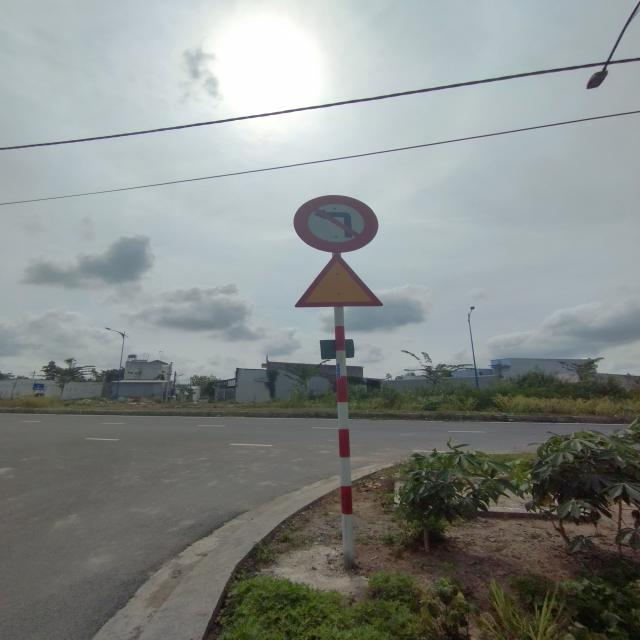Cam_Re_Trai: (291, 193, 382, 254)
Gioi_Han_Toc_Do_25: (295, 253, 384, 308)
